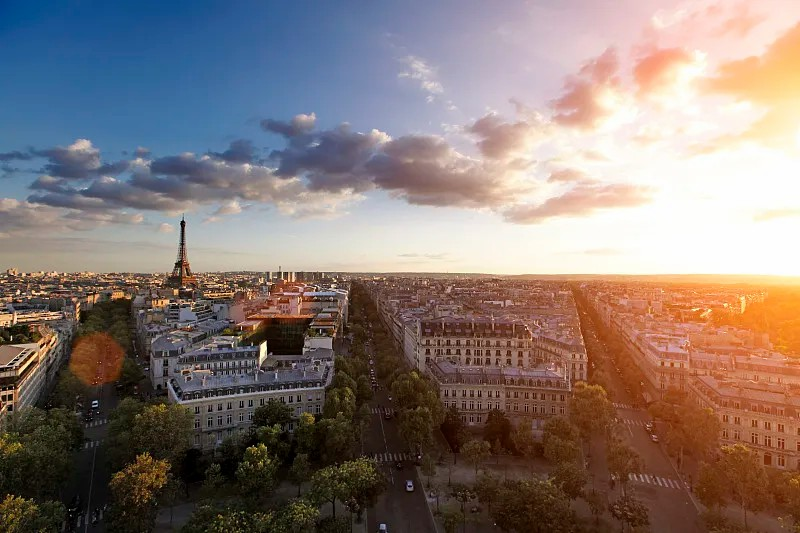Eiffel: (167, 213, 199, 287)
